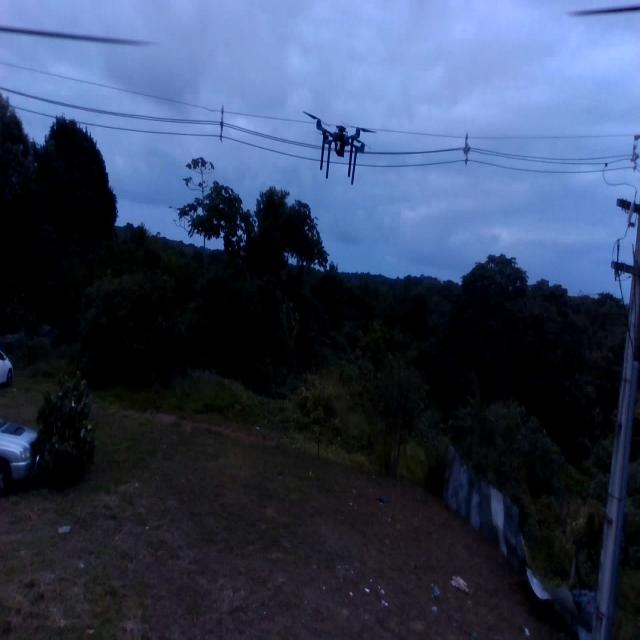-uav-: (299, 96, 379, 194)
